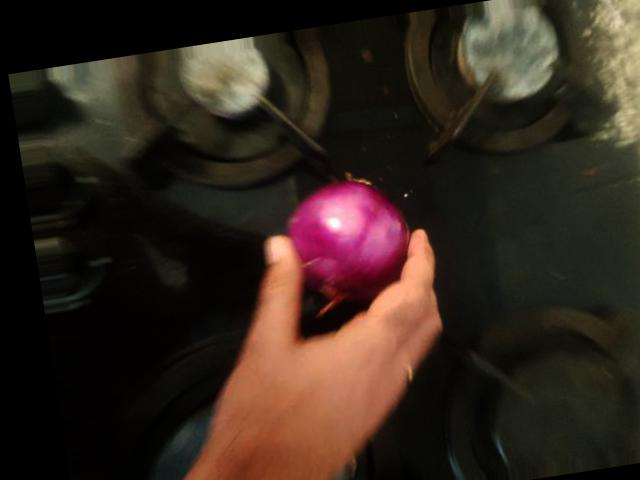onion: (384, 82, 518, 223)
